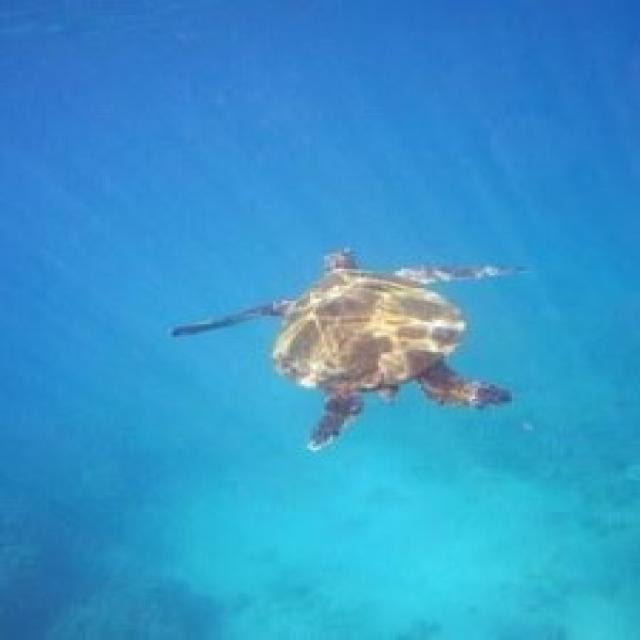Sea turtle: (169, 241, 549, 453)
